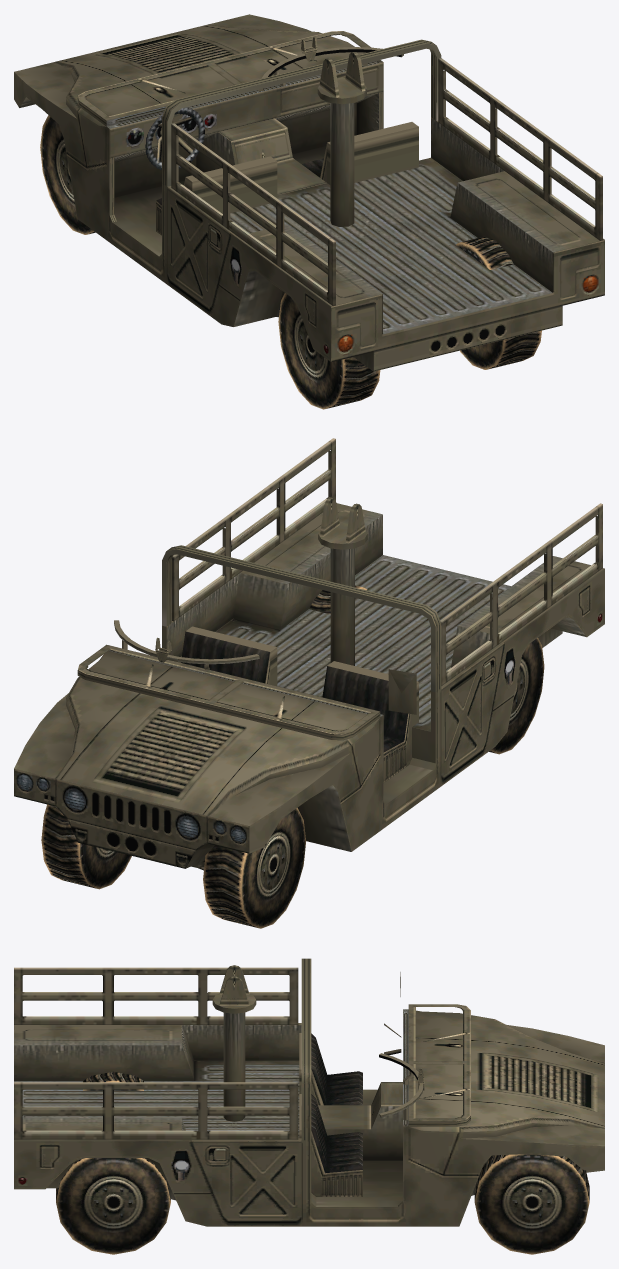
File: HUMVEETOWMG.glb
3 renders of one model, top to bottom at view 1: azimuth 30°, elevation 25°; view 2: azimuth 150°, elevation 25°; view 3: azimuth 270°, elevation 25°, orthographic. The views are drawn at different scales.
Visible parts, largest first — view 1: HUMVEE, HUMVEERIGHTWHEEL (×2), HUMVEELEFTWHEEL, TOW_MOUNT; view 2: HUMVEE, HUMVEERIGHTWHEEL (×2), HUMVEELEFTWHEEL, TOW_MOUNT; view 3: HUMVEE, HUMVEELEFTWHEEL (×2), TOW_MOUNT, HUMVEERIGHTWHEEL.
Part boxes in pixels (<box>): HUMVEE: <box>14,14,604,371</box>; HUMVEERIGHTWHEEL (×2): <box>40,115,380,409</box>; HUMVEELEFTWHEEL: <box>455,236,541,369</box>; TOW_MOUNT: <box>317,52,366,104</box>; HUMVEE: <box>14,438,604,870</box>; HUMVEERIGHTWHEEL (×2): <box>203,638,544,928</box>; HUMVEELEFTWHEEL: <box>41,804,131,889</box>; TOW_MOUNT: <box>318,497,367,549</box>; HUMVEE: <box>14,958,604,1226</box>; HUMVEELEFTWHEEL (×2): <box>56,1154,589,1254</box>; TOW_MOUNT: <box>212,965,256,1013</box>; HUMVEERIGHTWHEEL: <box>83,1071,143,1090</box>.
Size of the model in its own units: 2.9 by 2.44 by 5.43.
Materials: 5 (4 with a texture image).
